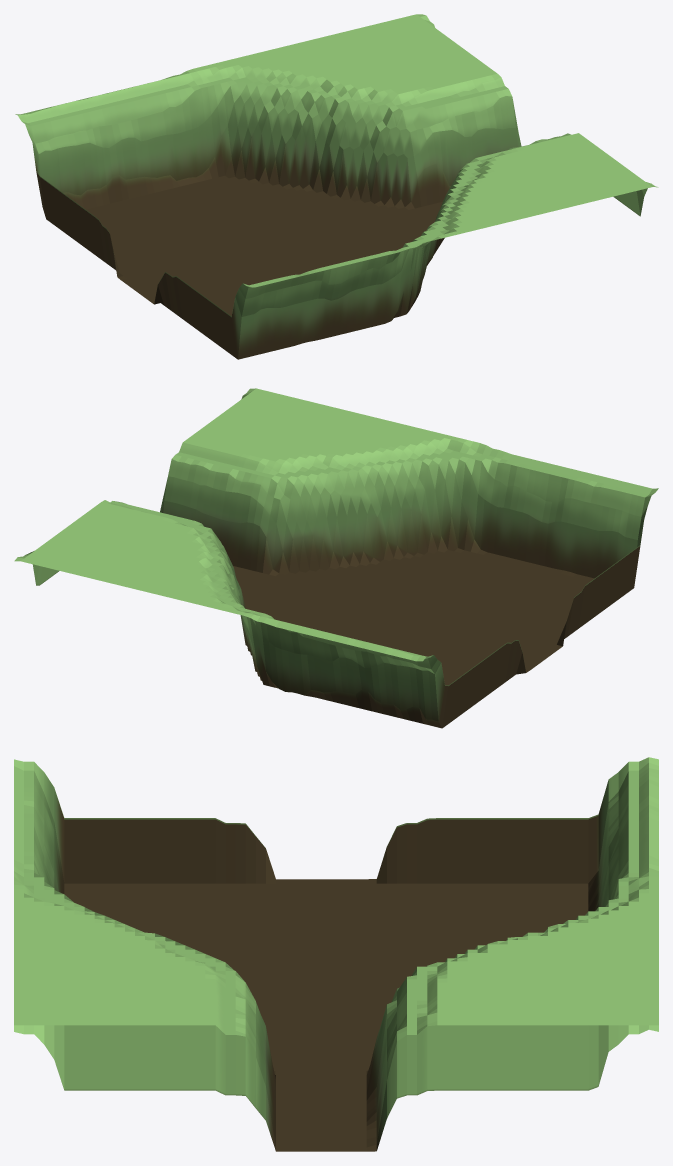
File: ground.obj
3 renders of one model, top to bottom at view 1: azimuth 30°, elevation 25°; view 2: azimuth 150°, elevation 25°; view 3: azimuth 270°, elevation 25°, orthographic. The views are drawn at different scales.
Visible parts, largest first — view 1: 平面; view 2: 平面; view 3: 平面.
Part boxes in pixels (x1,y1,x2,y2): 平面: (15, 14, 658, 359); 平面: (14, 388, 658, 728); 平面: (14, 757, 658, 1151).
Size of the model in its own units: 200 by 41.83 by 200.
